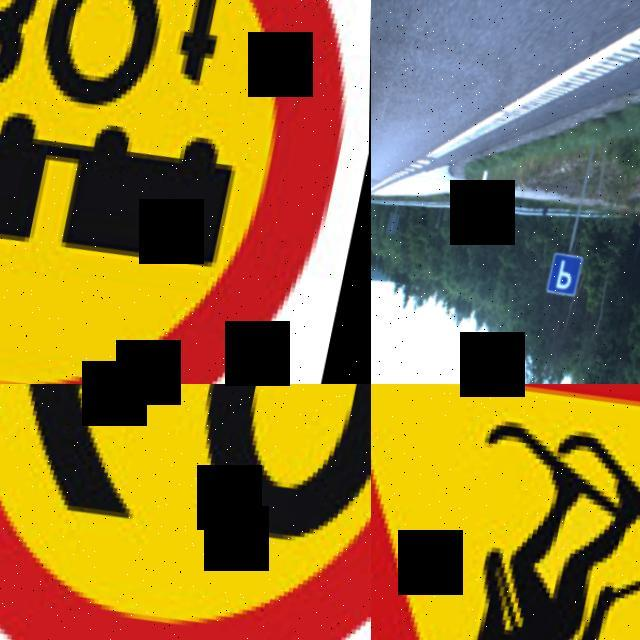156: (371, 384, 640, 640)
86: (544, 252, 588, 308)
No vehicles or combination of vehicles exceeding weight shown: (0, 0, 371, 384)
speed limit-60: (0, 384, 371, 640)
